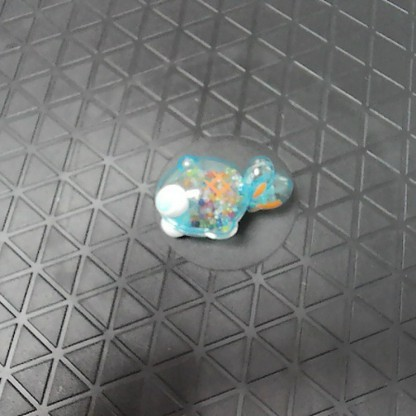bluefish: (146, 148, 294, 243)
